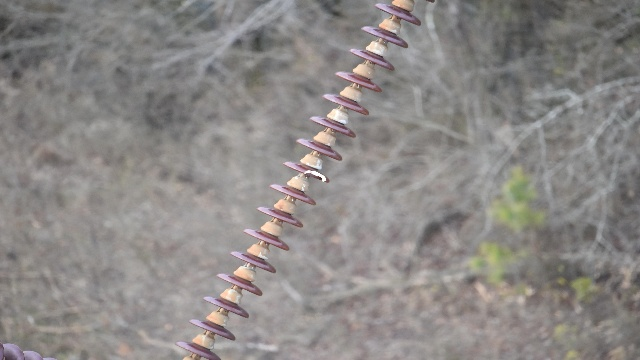broken_local: (300, 167, 331, 187)
insulator_unspecified: (176, 2, 421, 359)
